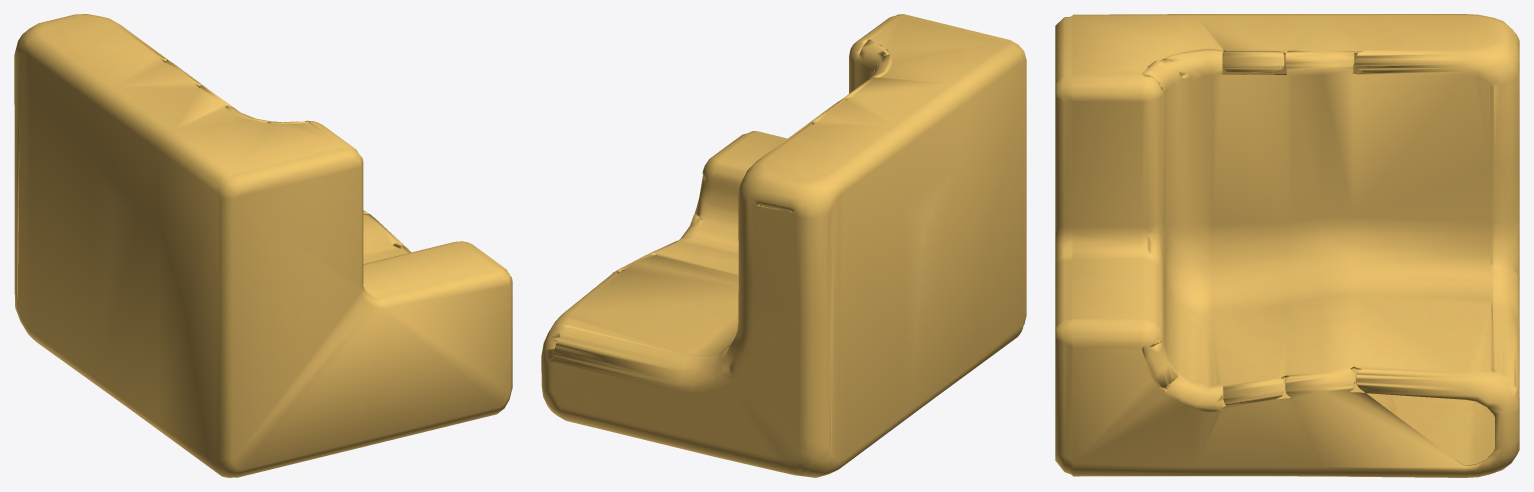
The model's file is selected.fbx.
3 renders of one model, left to right at view 1: azimuth 30°, elevation 25°; view 2: azimuth 150°, elevation 25°; view 3: azimuth 270°, elevation 25°, orthographic. The views are drawn at different scales.
Visible parts, largest first — view 1: tripo_node_29c22df0-2ffa-48bb-8e89-2739bf6dfb97; view 2: tripo_node_29c22df0-2ffa-48bb-8e89-2739bf6dfb97; view 3: tripo_node_29c22df0-2ffa-48bb-8e89-2739bf6dfb97.
Part boxes in pixels (box(x1,y1,x2,y2)): tripo_node_29c22df0-2ffa-48bb-8e89-2739bf6dfb97: box(14, 14, 512, 477); tripo_node_29c22df0-2ffa-48bb-8e89-2739bf6dfb97: box(541, 14, 1026, 477); tripo_node_29c22df0-2ffa-48bb-8e89-2739bf6dfb97: box(1055, 14, 1519, 477).
Bounding box in the file's own units: 77.93 × 76.76 × 99.8.
Materials: 1 (1 with a texture image).
